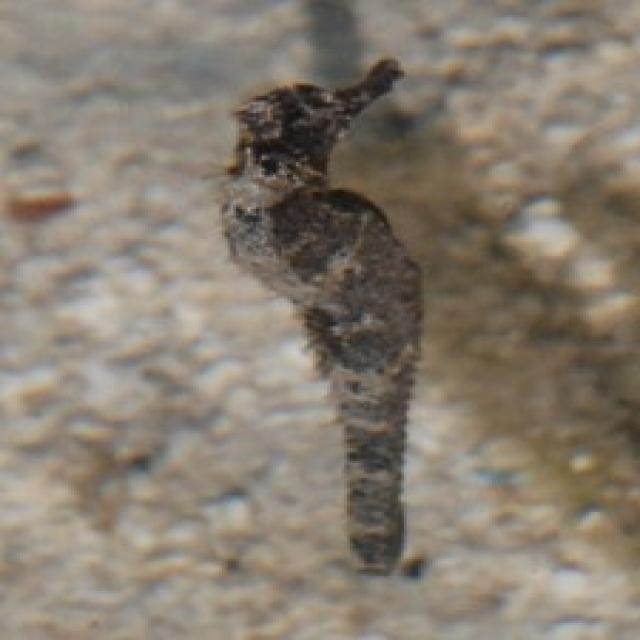Seahorse: (210, 58, 487, 567)
